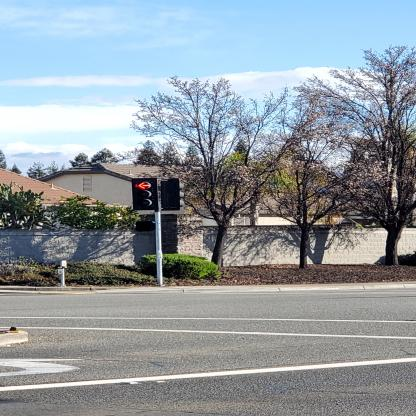left-red: (132, 178, 158, 210)
